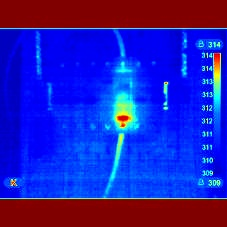High: (109, 106, 145, 132)
